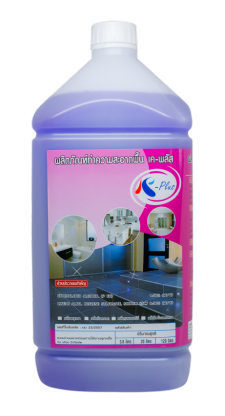Cleaning_solution: (26, 17, 197, 399)
